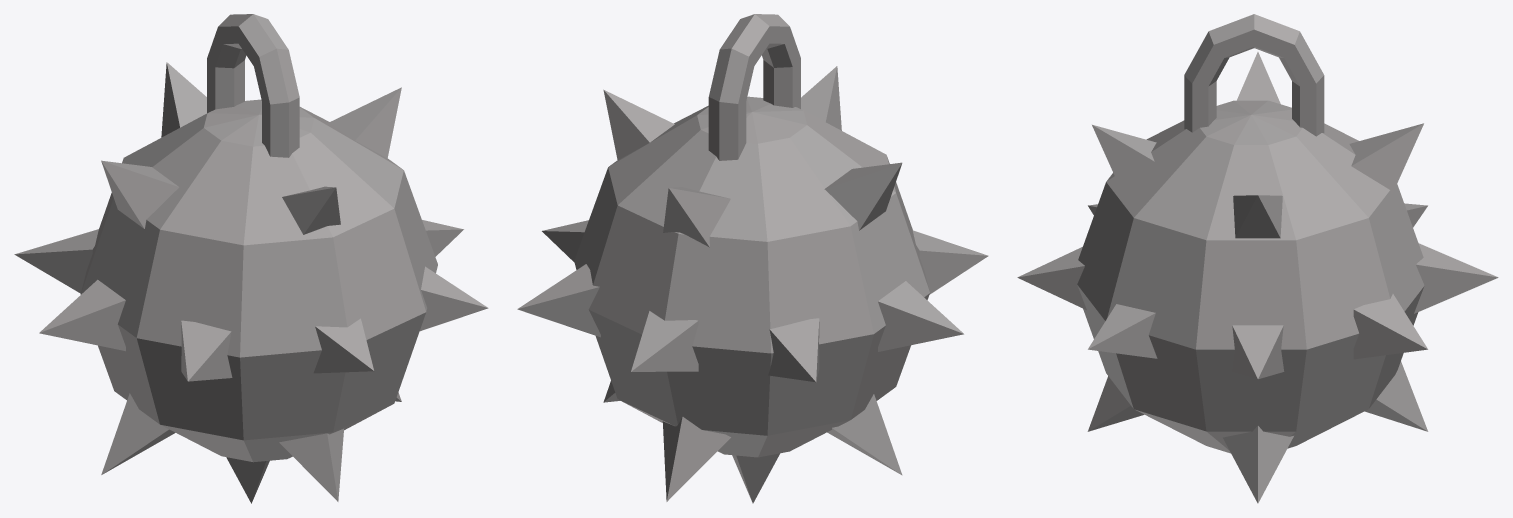
The model's file is MetalPendulumTrap_11.fbx.
3 renders of one model, left to right at view 1: azimuth 30°, elevation 25°; view 2: azimuth 150°, elevation 25°; view 3: azimuth 270°, elevation 25°, orthographic.
Visible parts, largest first — view 1: MetalPendulumTrap_11; view 2: MetalPendulumTrap_11; view 3: MetalPendulumTrap_11.
Boxes of the visible parts, box(x1,y1,x2,y2) form: MetalPendulumTrap_11: box(14, 14, 488, 503); MetalPendulumTrap_11: box(517, 14, 988, 503); MetalPendulumTrap_11: box(1017, 14, 1498, 503).
Size of the model in its own units: 36.6 by 40.38 by 36.6.
